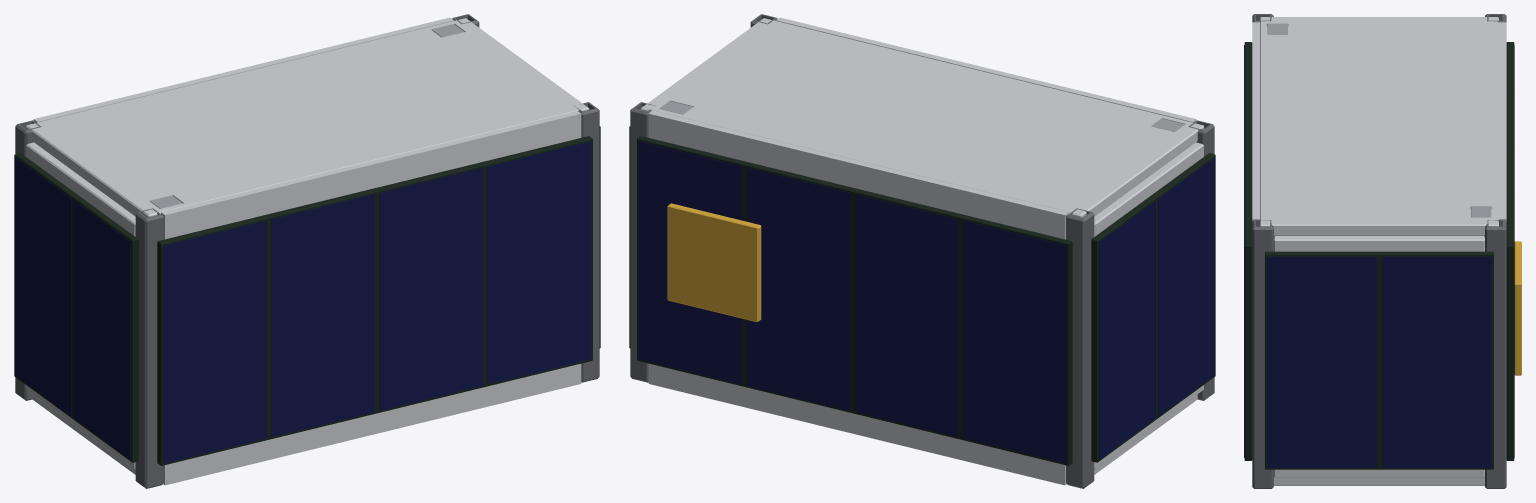
The model's file is TIGRE_Daughter_2x1U.glb.
The picture shows the model from 3 angles, left to right: view 1: azimuth 30°, elevation 25°; view 2: azimuth 150°, elevation 25°; view 3: azimuth 270°, elevation 25°; orthographic projection. The views are drawn at different scales.
Visible parts, largest first — view 1: TGR-D-PWR-002 Solar panel -y (cells), TGR-D-STR-012 Outer end plate, TGR-D-PWR-006 Solar panel -x (cells), TGR-D-STR-008 Side closeout strip -y, outer end, TGR-D-PWR-001 Solar panel -y, TGR-D-STR-007 Side closeout strip -y, separation end, TGR-D-STR-001 Rail -x-y, TGR-D-PWR-005 Solar panel -x, TGR-D-STR-005 Side wall -x, TGR-D-STR-003 Rail +x-y, TGR-D-STR-010 Side closeout strip +y, outer end, TGR-D-STR-002 Rail -x+y; view 2: TGR-D-PWR-004 Solar panel +y (cells), TGR-D-STR-012 Outer end plate, TGR-D-PWR-006 Solar panel -x (cells), TGR-D-STR-010 Side closeout strip +y, outer end, TGR-D-PLD-005 Langmuir probe sensor (ram face), TGR-D-STR-009 Side closeout strip +y, separation end, TGR-D-PWR-003 Solar panel +y, TGR-D-STR-002 Rail -x+y, TGR-D-PWR-005 Solar panel -x, TGR-D-STR-005 Side wall -x, TGR-D-STR-004 Rail +x+y, TGR-D-STR-008 Side closeout strip -y, outer end (+1 smaller); view 3: TGR-D-STR-012 Outer end plate, TGR-D-PWR-008 Solar panel +x (cells), TGR-D-STR-006 Side wall +x, TGR-D-PWR-007 Solar panel +x, TGR-D-STR-003 Rail +x-y, TGR-D-STR-004 Rail +x+y, TGR-D-PWR-003 Solar panel +y, TGR-D-PWR-001 Solar panel -y, TGR-D-STR-011 Separation plate, TGR-D-STR-008 Side closeout strip -y, outer end, TGR-D-STR-010 Side closeout strip +y, outer end, TGR-D-PLD-005 Langmuir probe sensor (ram face) (+2 smaller).
Part boxes in pixels (x1,y1,x2,y2): TGR-D-PWR-002 Solar panel -y (cells): [163, 141, 591, 463]; TGR-D-STR-012 Outer end plate: [25, 18, 589, 217]; TGR-D-PWR-006 Solar panel -x (cells): [15, 157, 130, 459]; TGR-D-STR-008 Side closeout strip -y, outer end: [161, 111, 581, 239]; TGR-D-PWR-001 Solar panel -y: [157, 136, 592, 465]; TGR-D-STR-007 Side closeout strip -y, separation end: [163, 363, 581, 485]; TGR-D-STR-001 Rail -x-y: [135, 208, 163, 488]; TGR-D-PWR-005 Solar panel -x: [14, 153, 138, 462]; TGR-D-STR-005 Side wall -x: [26, 142, 135, 469]; TGR-D-STR-003 Rail +x-y: [574, 102, 599, 382]; TGR-D-STR-010 Side closeout strip +y, outer end: [33, 17, 453, 122]; TGR-D-STR-002 Rail -x+y: [15, 120, 41, 400]; TGR-D-PWR-004 Solar panel +y (cells): [638, 141, 1066, 463]; TGR-D-STR-012 Outer end plate: [640, 18, 1204, 217]; TGR-D-PWR-006 Solar panel -x (cells): [1099, 157, 1214, 459]; TGR-D-STR-010 Side closeout strip +y, outer end: [648, 111, 1068, 239]; TGR-D-PLD-005 Langmuir probe sensor (ram face): [667, 203, 761, 322]; TGR-D-STR-009 Side closeout strip +y, separation end: [648, 363, 1066, 485]; TGR-D-PWR-003 Solar panel +y: [637, 136, 1072, 465]; TGR-D-STR-002 Rail -x+y: [1066, 208, 1094, 488]; TGR-D-PWR-005 Solar panel -x: [1091, 153, 1215, 462]; TGR-D-STR-005 Side wall -x: [1094, 142, 1203, 469]; TGR-D-STR-004 Rail +x+y: [630, 102, 655, 382]; TGR-D-STR-008 Side closeout strip -y, outer end: [776, 17, 1196, 122]; TGR-D-STR-012 Outer end plate: [1260, 17, 1498, 235]; TGR-D-PWR-008 Solar panel +x (cells): [1267, 256, 1491, 467]; TGR-D-STR-006 Side wall +x: [1274, 236, 1484, 477]; TGR-D-PWR-007 Solar panel +x: [1265, 251, 1493, 469]; TGR-D-STR-003 Rail +x-y: [1252, 220, 1273, 488]; TGR-D-STR-004 Rail +x+y: [1485, 220, 1506, 488]; TGR-D-PWR-003 Solar panel +y: [1506, 42, 1514, 460]; TGR-D-PWR-001 Solar panel -y: [1244, 42, 1252, 460]; TGR-D-STR-011 Separation plate: [1274, 477, 1484, 485]; TGR-D-STR-008 Side closeout strip -y, outer end: [1252, 22, 1259, 221]; TGR-D-STR-010 Side closeout strip +y, outer end: [1499, 22, 1506, 221]; TGR-D-PLD-005 Langmuir probe sensor (ram face): [1514, 241, 1521, 375].
Size of the model in its own units: 206 by 114 by 109.
